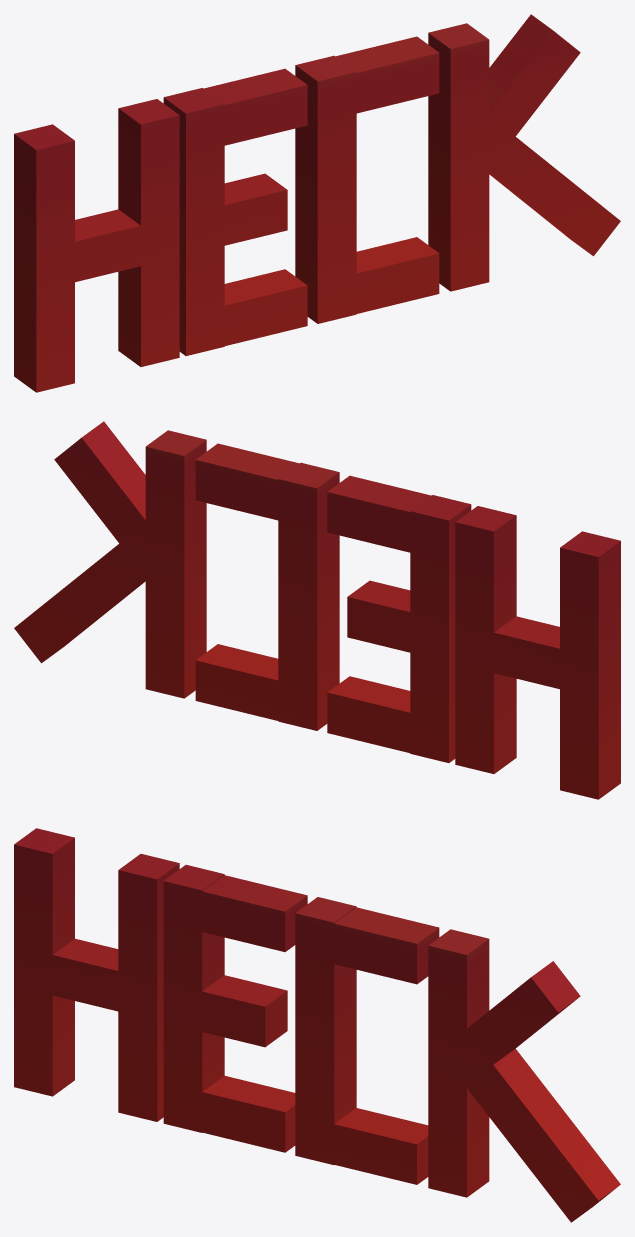
The model's file is HECK_Text.fbx.
3 renders of one model, top to bottom at view 1: azimuth 30°, elevation 25°; view 2: azimuth 150°, elevation 25°; view 3: azimuth 330°, elevation 25°, orthographic.
Visible parts, largest first — view 1: Heck; view 2: Heck; view 3: Heck.
Boxes of the visible parts, left/top/right/bottom form: Heck: left=14, top=14, right=620, bottom=392; Heck: left=14, top=421, right=620, bottom=799; Heck: left=14, top=828, right=620, bottom=1222.
Size of the model in its own units: 3019 by 1197 by 200.
1 material, 1 textured.
